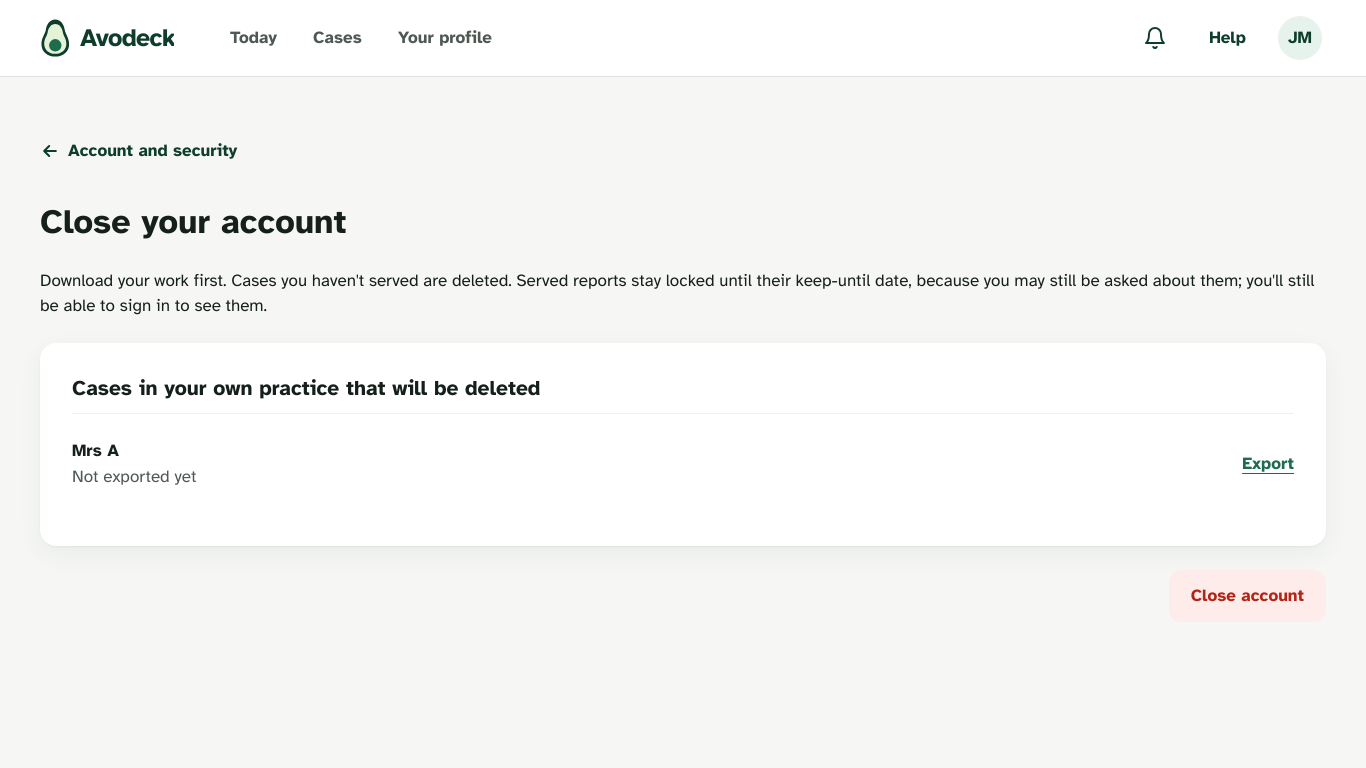
Test: closing the account works and says served reports stay
Click the button "Close account". click: [1247, 596]
box: [1169,570,1326,622]
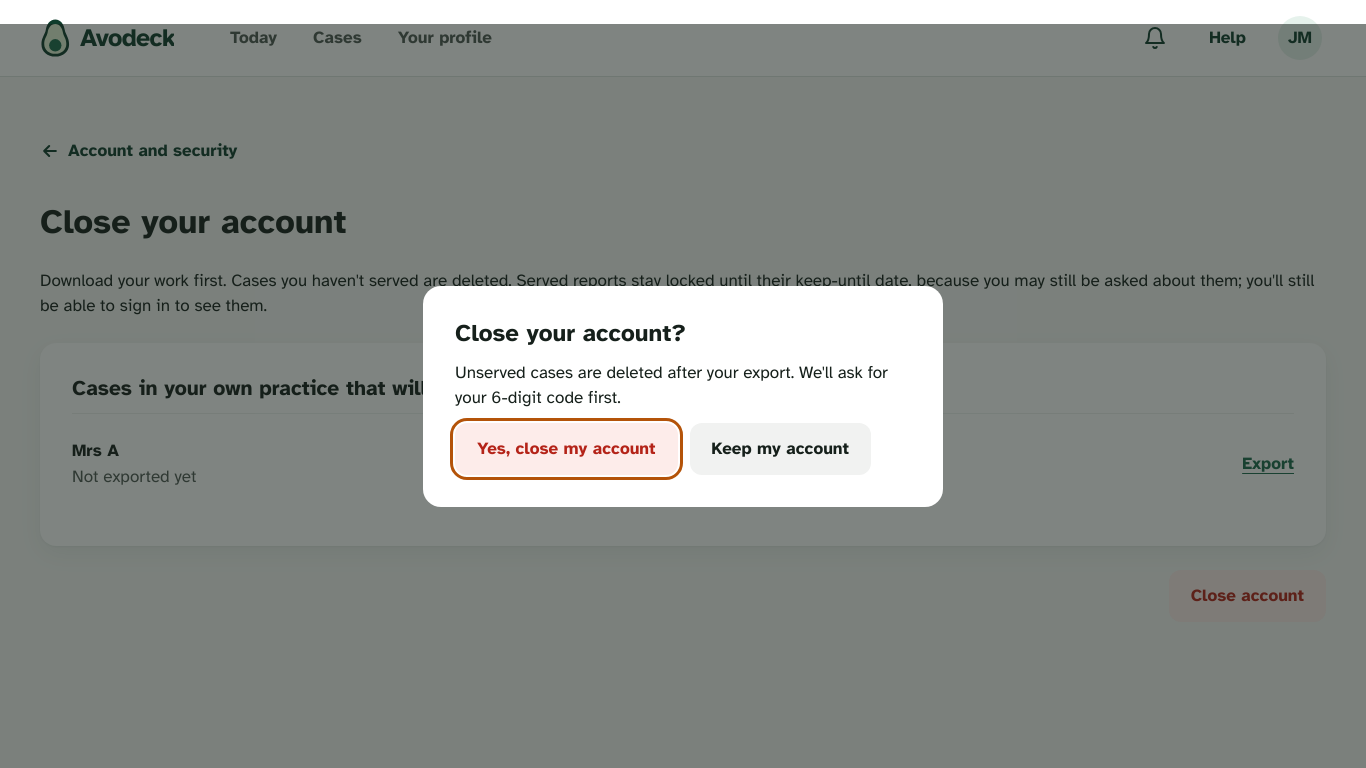
Click the button "Yes, close my account". click: [566, 448]
box: [455,422,678,474]
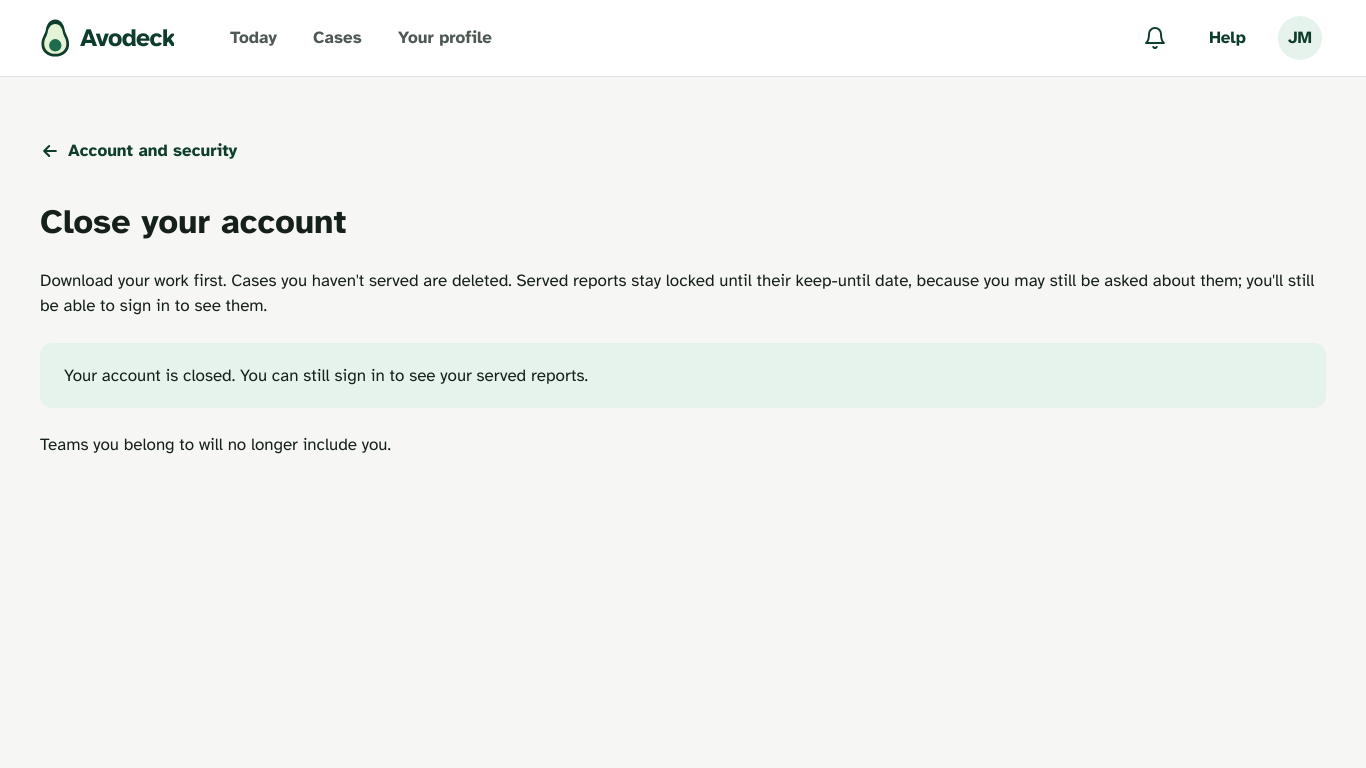
Check: the text "You can still sign in to see your served reports" is shown, box [64,364,588,386]
